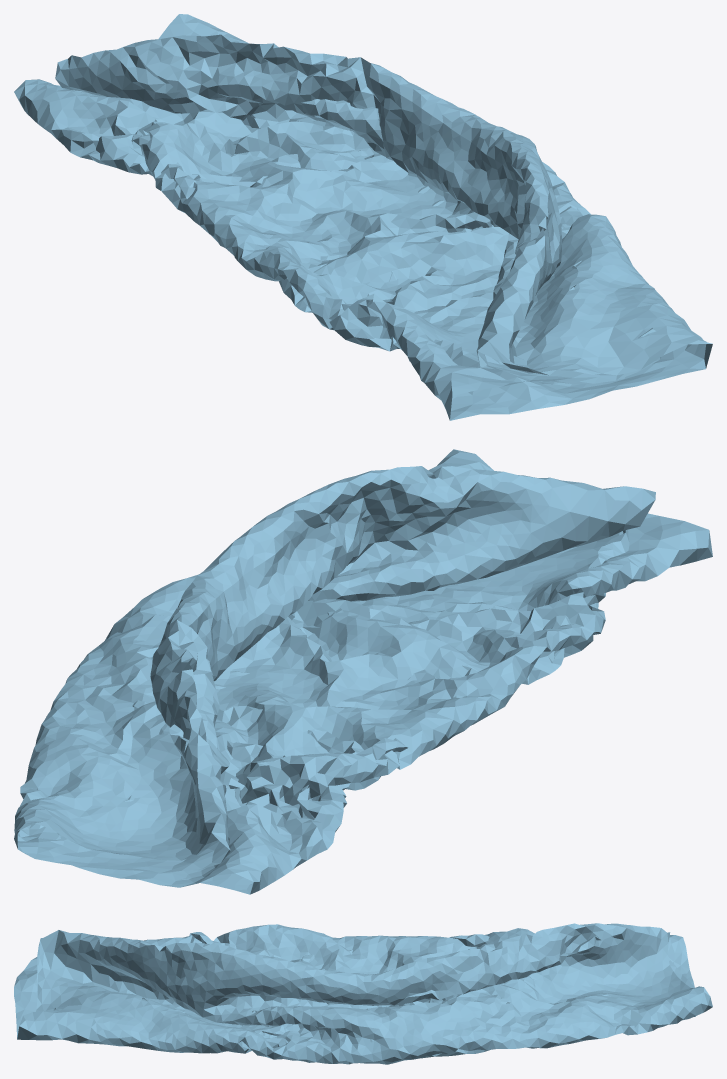
File: frame_20.glb
3 renders of one model, top to bottom at view 1: azimuth 30°, elevation 25°; view 2: azimuth 150°, elevation 25°; view 3: azimuth 270°, elevation 25°, orthographic. The views are drawn at different scales.
Visible parts, largest first — view 1: frame_20.obj; view 2: frame_20.obj; view 3: frame_20.obj.
Part boxes in pixels (bbox=[...]): frame_20.obj: bbox=[14, 14, 712, 420]; frame_20.obj: bbox=[14, 449, 712, 894]; frame_20.obj: bbox=[14, 923, 712, 1064].
Size of the model in its own units: 0.7261 by 0.2424 by 1.78.
